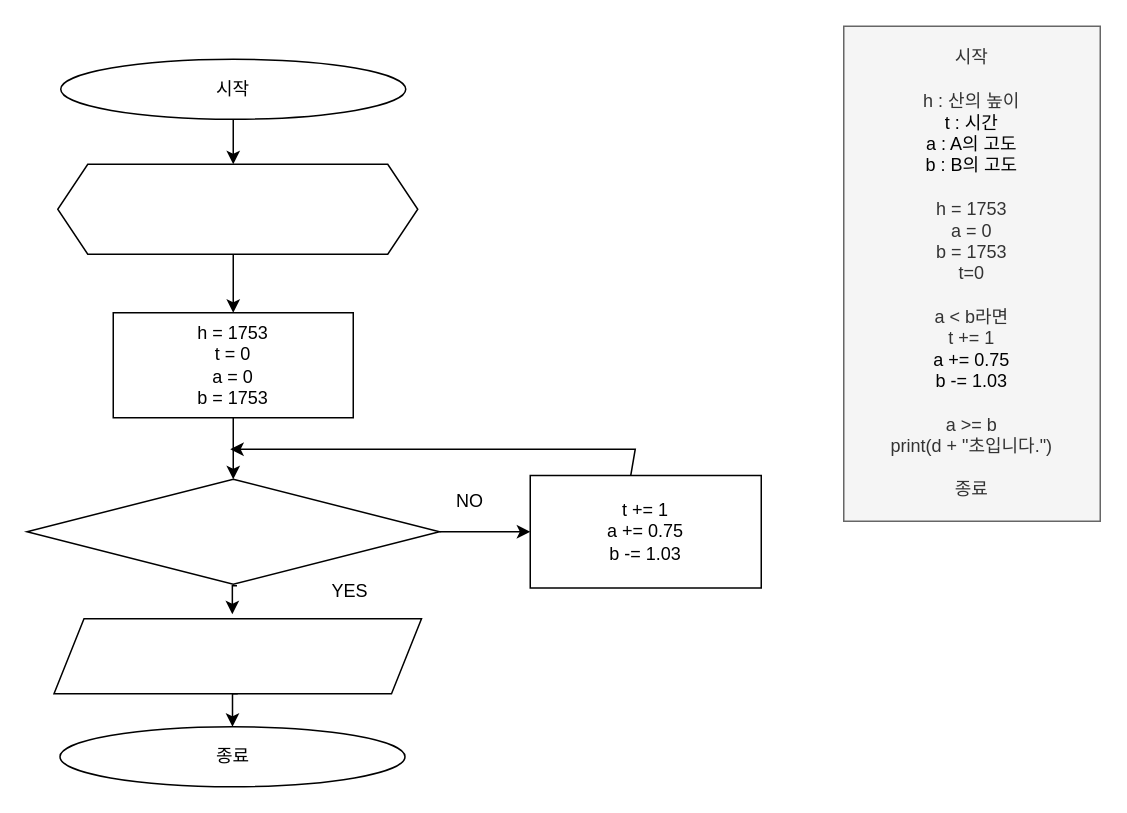
Some shapes in this 1127 by 813 pixel diagram are drawn without their labels. The shapes that lost their labels are listed below. From the top down, each one's centre as x and y in pixels, then its label:
point (237, 208): h : 산의 높이 t : 시간 a : A의 고도 b : B의 고도
point (233, 531): a >= b
point (237, 655): t + "초 입니다." 출력
